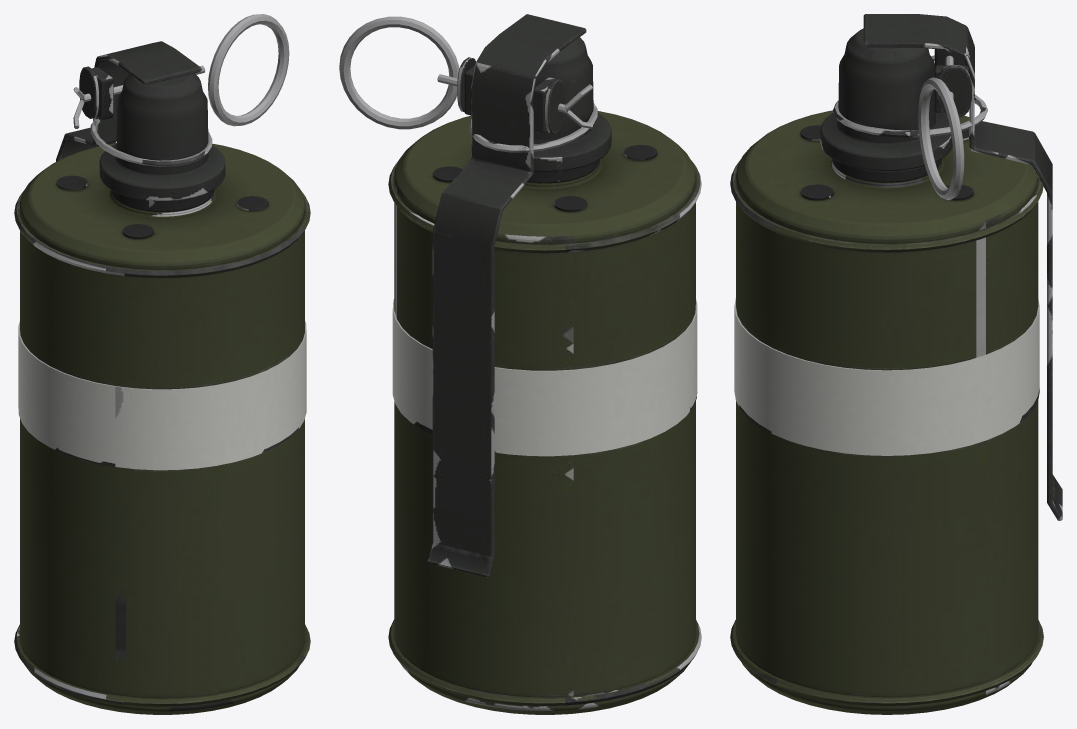
Rendered from smoke.glb.
3 renders of one model, left to right at view 1: azimuth 30°, elevation 25°; view 2: azimuth 150°, elevation 25°; view 3: azimuth 270°, elevation 25°, orthographic. The views are drawn at different scales.
Visible parts, largest first — view 1: body, spoon, ring; view 2: body, spoon, ring; view 3: body, spoon, ring.
Part boxes in pixels (left/top/right/bottom): body: left=14, top=67, right=310, bottom=714; spoon: left=56, top=41, right=201, bottom=161; ring: left=73, top=14, right=289, bottom=128; body: left=388, top=37, right=701, bottom=714; spoon: left=427, top=14, right=586, bottom=577; ring: left=339, top=16, right=592, bottom=129; body: left=730, top=28, right=1043, bottom=714; spoon: left=863, top=14, right=1062, bottom=520; ring: left=918, top=55, right=964, bottom=200.
Size of the model in its own units: 0.0676 by 0.1336 by 0.0638.
Materials: 5 (5 with a texture image).
